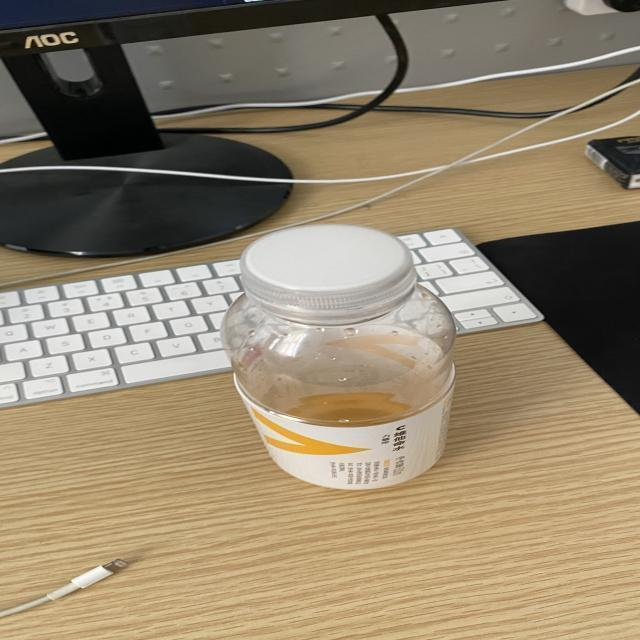chai: (224, 225, 455, 489)
